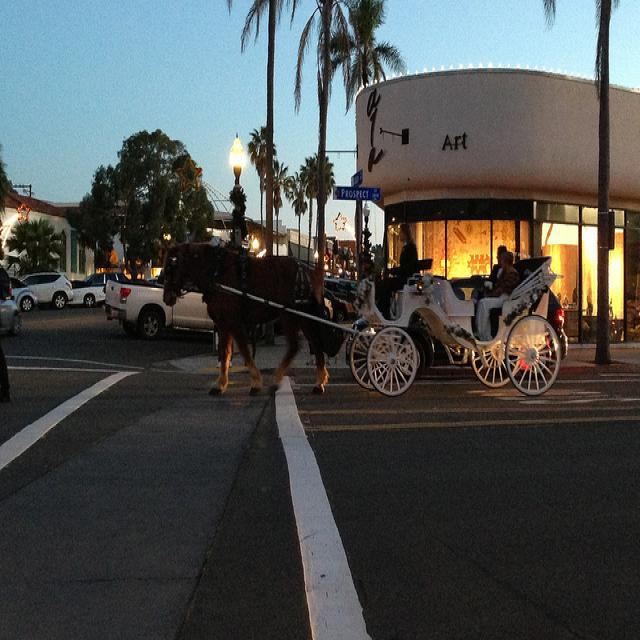Vehicle: (100, 270, 220, 343), (11, 272, 76, 313), (547, 289, 569, 357), (70, 278, 104, 306), (0, 297, 23, 335), (0, 263, 13, 301), (90, 273, 129, 285)
